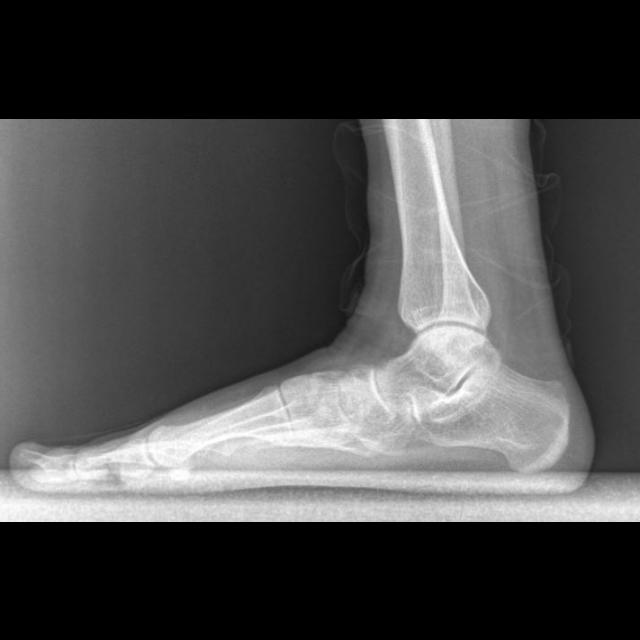a: (417, 359, 571, 473)
b: (338, 368, 394, 435)
c: (148, 387, 292, 467)
